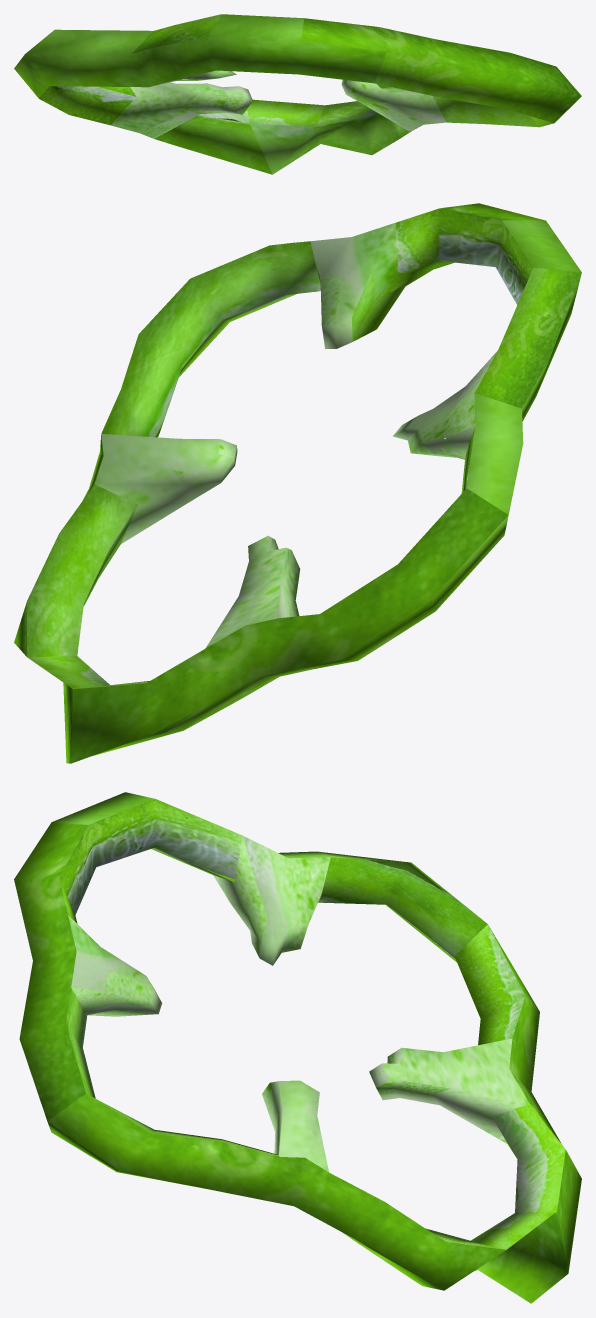
The model's file is pepper.fbx.
3 renders of one model, top to bottom at view 1: azimuth 30°, elevation 25°; view 2: azimuth 150°, elevation 25°; view 3: azimuth 270°, elevation 25°, orthographic. The views are drawn at different scales.
Visible parts, largest first — view 1: pepper; view 2: pepper; view 3: pepper.
Part boxes in pixels (left/top/right/bottom): pepper: left=14, top=14, right=581, bottom=174; pepper: left=14, top=203, right=581, bottom=763; pepper: left=14, top=792, right=581, bottom=1303.
Bounding box in the file's own units: 8.71 × 6.62 × 8.76.
1 material, 1 textured.
